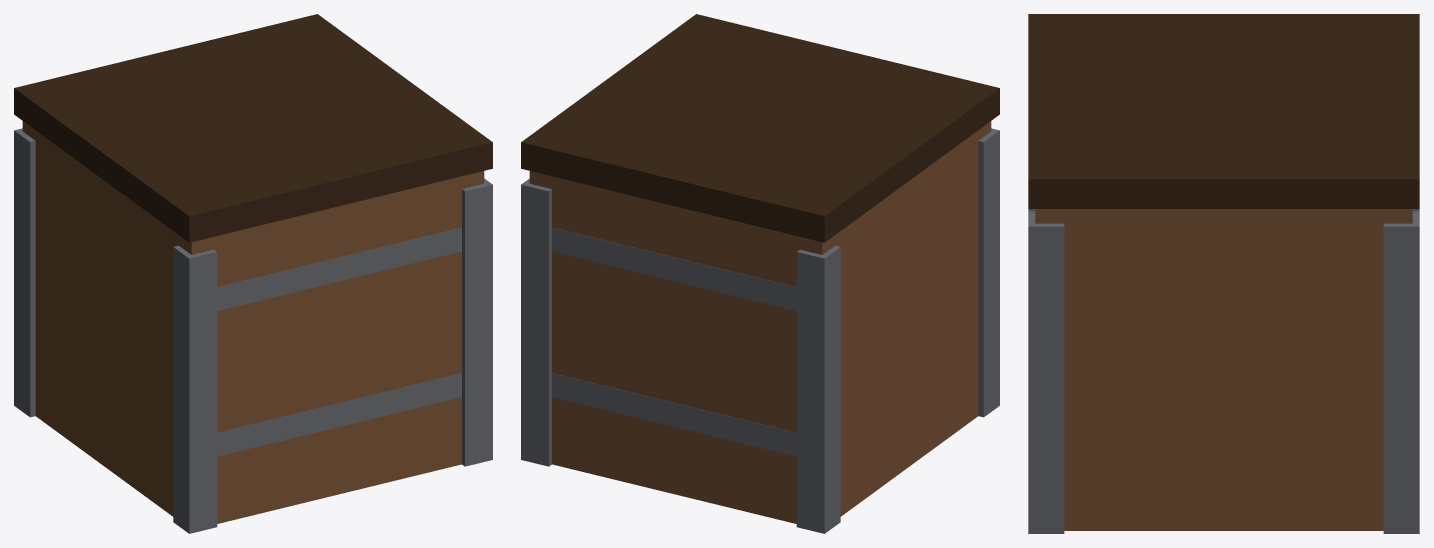
File: SN_Crate.glb
3 renders of one model, left to right at view 1: azimuth 30°, elevation 25°; view 2: azimuth 150°, elevation 25°; view 3: azimuth 270°, elevation 25°, orthographic. The views are drawn at different scales.
Parts seen in each view (by area): view 1: SN_Crate; view 2: SN_Crate; view 3: SN_Crate.
Boxes of the visible parts, x1,y1,x2,y2 form: SN_Crate: [14, 14, 492, 533]; SN_Crate: [521, 14, 999, 533]; SN_Crate: [1028, 14, 1419, 533].
Size of the model in its own units: 1.2 by 1.2 by 1.2.
